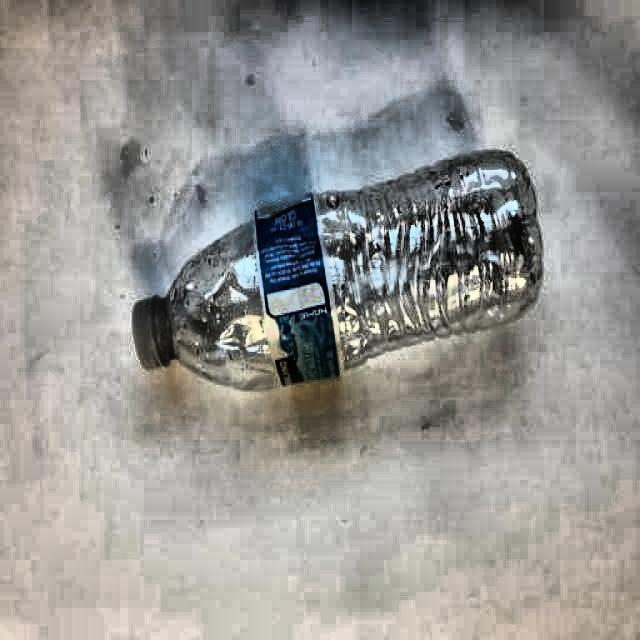plastic: (132, 150, 544, 393)
